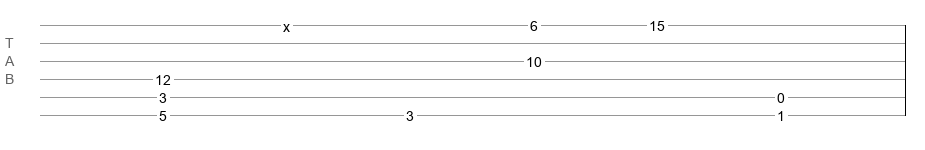0: (777, 90, 785, 100)
1: (777, 108, 785, 118)
10: (526, 54, 542, 64)
12: (155, 72, 171, 82)
15: (649, 18, 665, 28)
3: (159, 90, 167, 100), (406, 108, 414, 118)
5: (159, 108, 167, 118)
6: (530, 18, 538, 28)
x: (283, 19, 290, 27)
